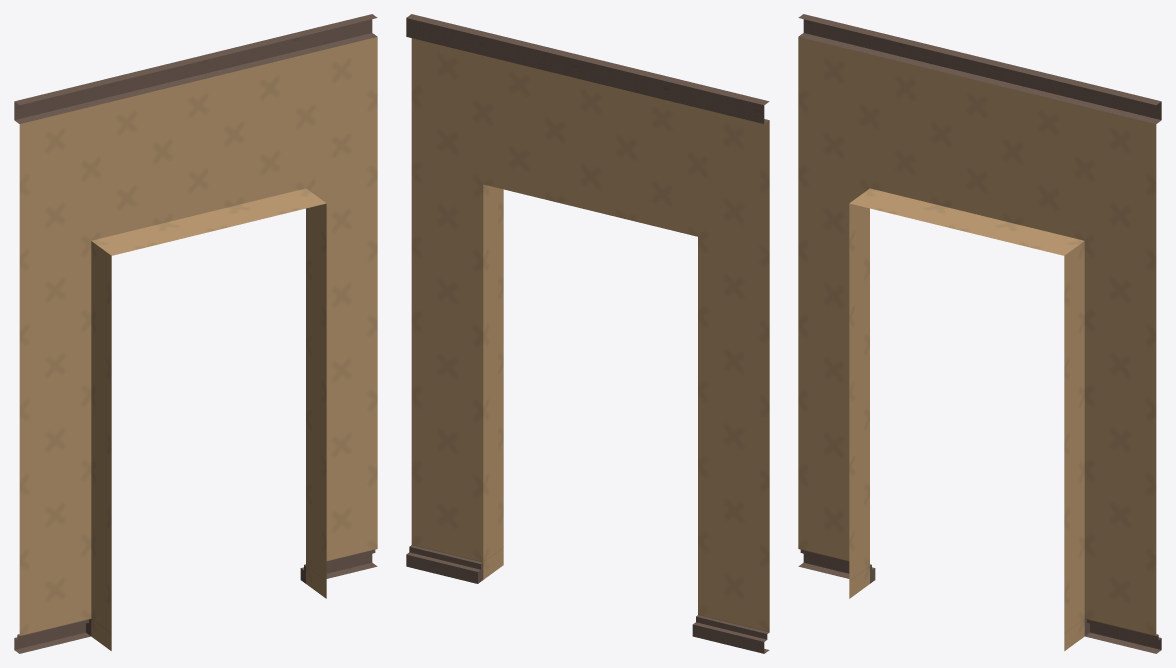
Rendered from Wall Room Doorframe Larger (1).fbx.
3 renders of one model, left to right at view 1: azimuth 30°, elevation 25°; view 2: azimuth 150°, elevation 25°; view 3: azimuth 330°, elevation 25°, orthographic.
Parts seen in each view (by area): view 1: Wall Room Doorframe Larger.001; view 2: Wall Room Doorframe Larger.001; view 3: Wall Room Doorframe Larger.001.
Part boxes in pixels (x1=…): Wall Room Doorframe Larger.001: x1=14, y1=14, x2=377, y2=653; Wall Room Doorframe Larger.001: x1=406, y1=14, x2=769, y2=653; Wall Room Doorframe Larger.001: x1=798, y1=14, x2=1161, y2=653.
Bounding box in the file's own units: 4 × 5.85 × 0.5023.
